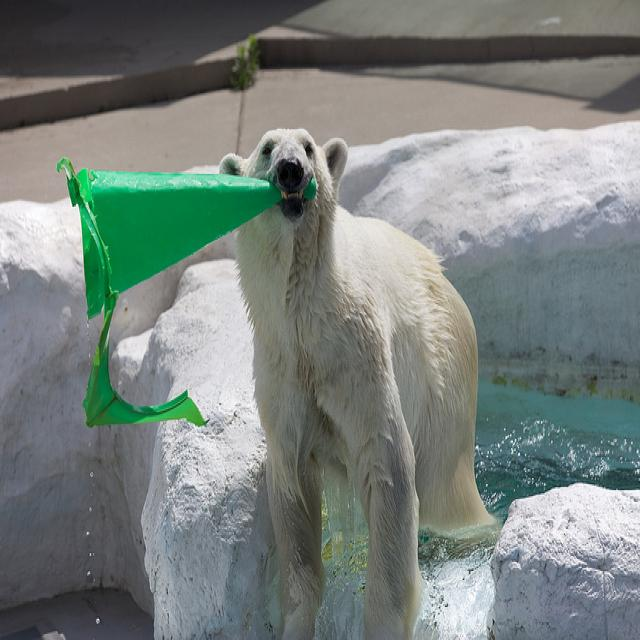Bear: (188, 102, 504, 640)
